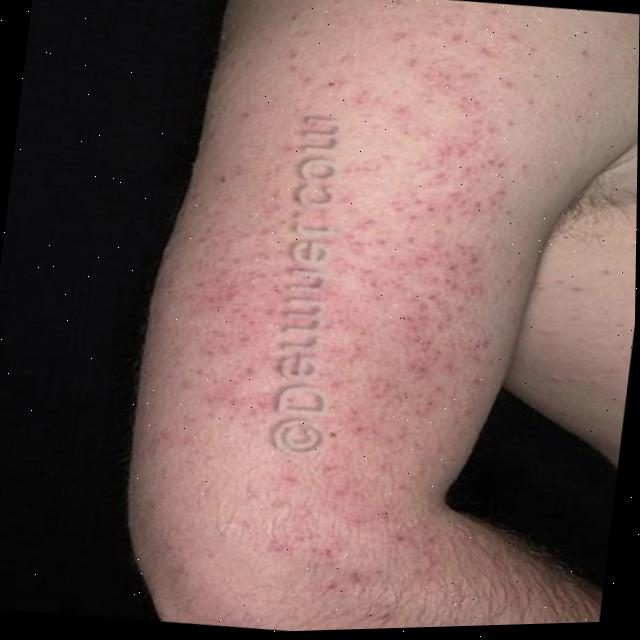Eczema: (168, 71, 540, 614)
